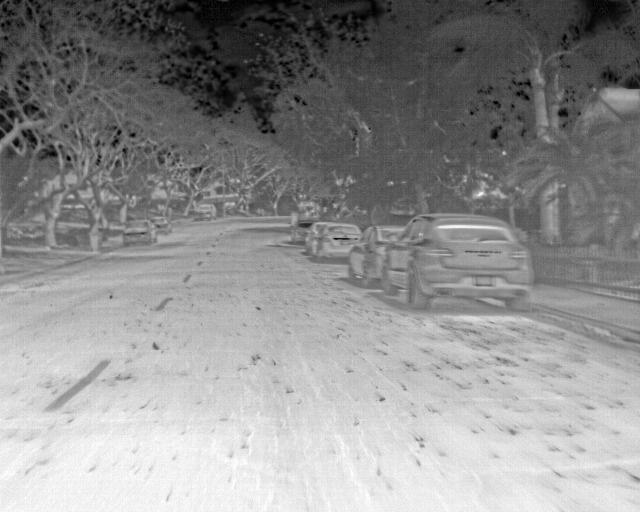car: (386, 212, 533, 313), (345, 223, 406, 286), (315, 220, 362, 264), (120, 217, 159, 246), (301, 219, 325, 251), (288, 216, 312, 243), (148, 214, 171, 233), (194, 202, 215, 219)
